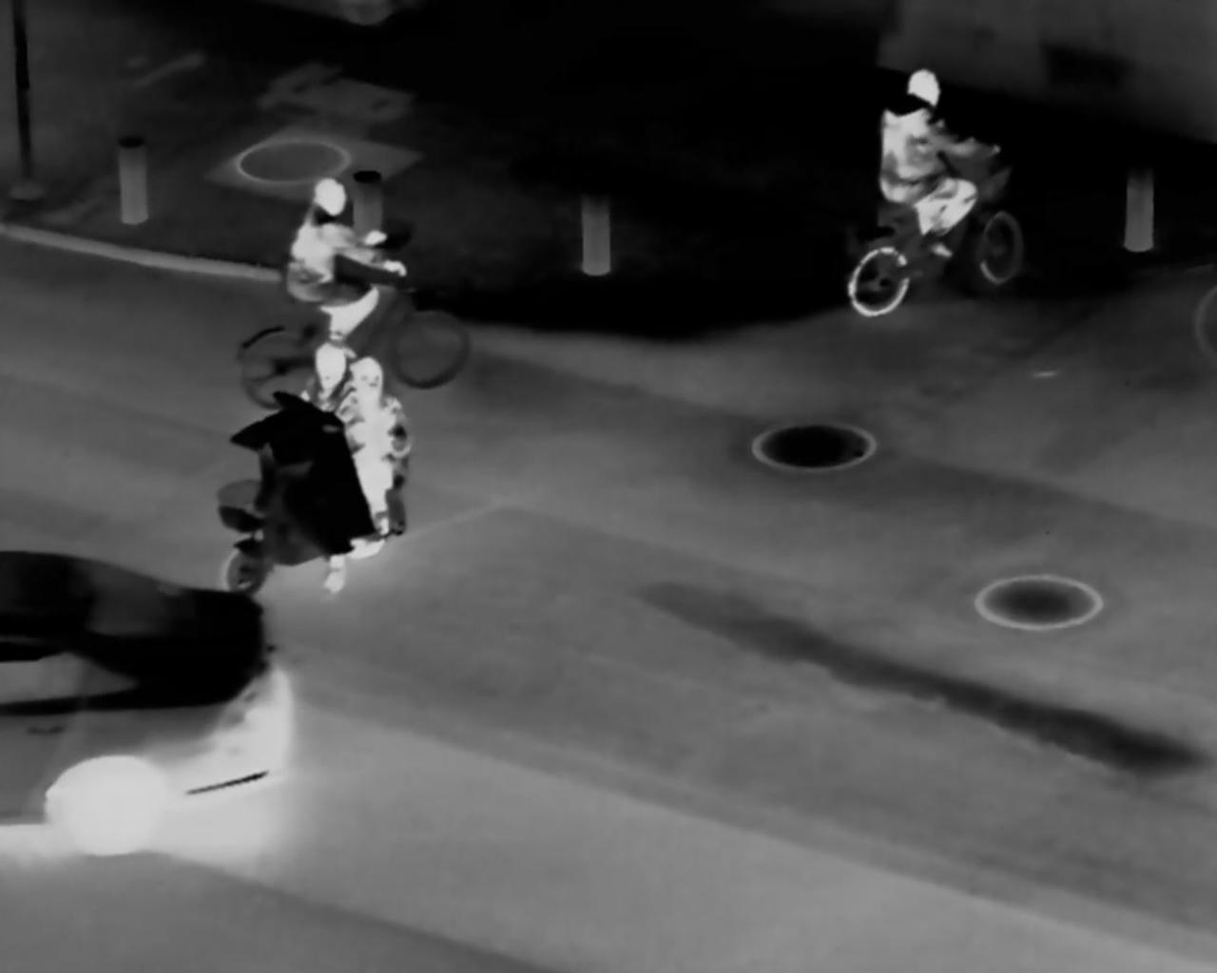person: (865, 59, 985, 275), (270, 165, 384, 343), (280, 345, 357, 594), (343, 351, 414, 540)
